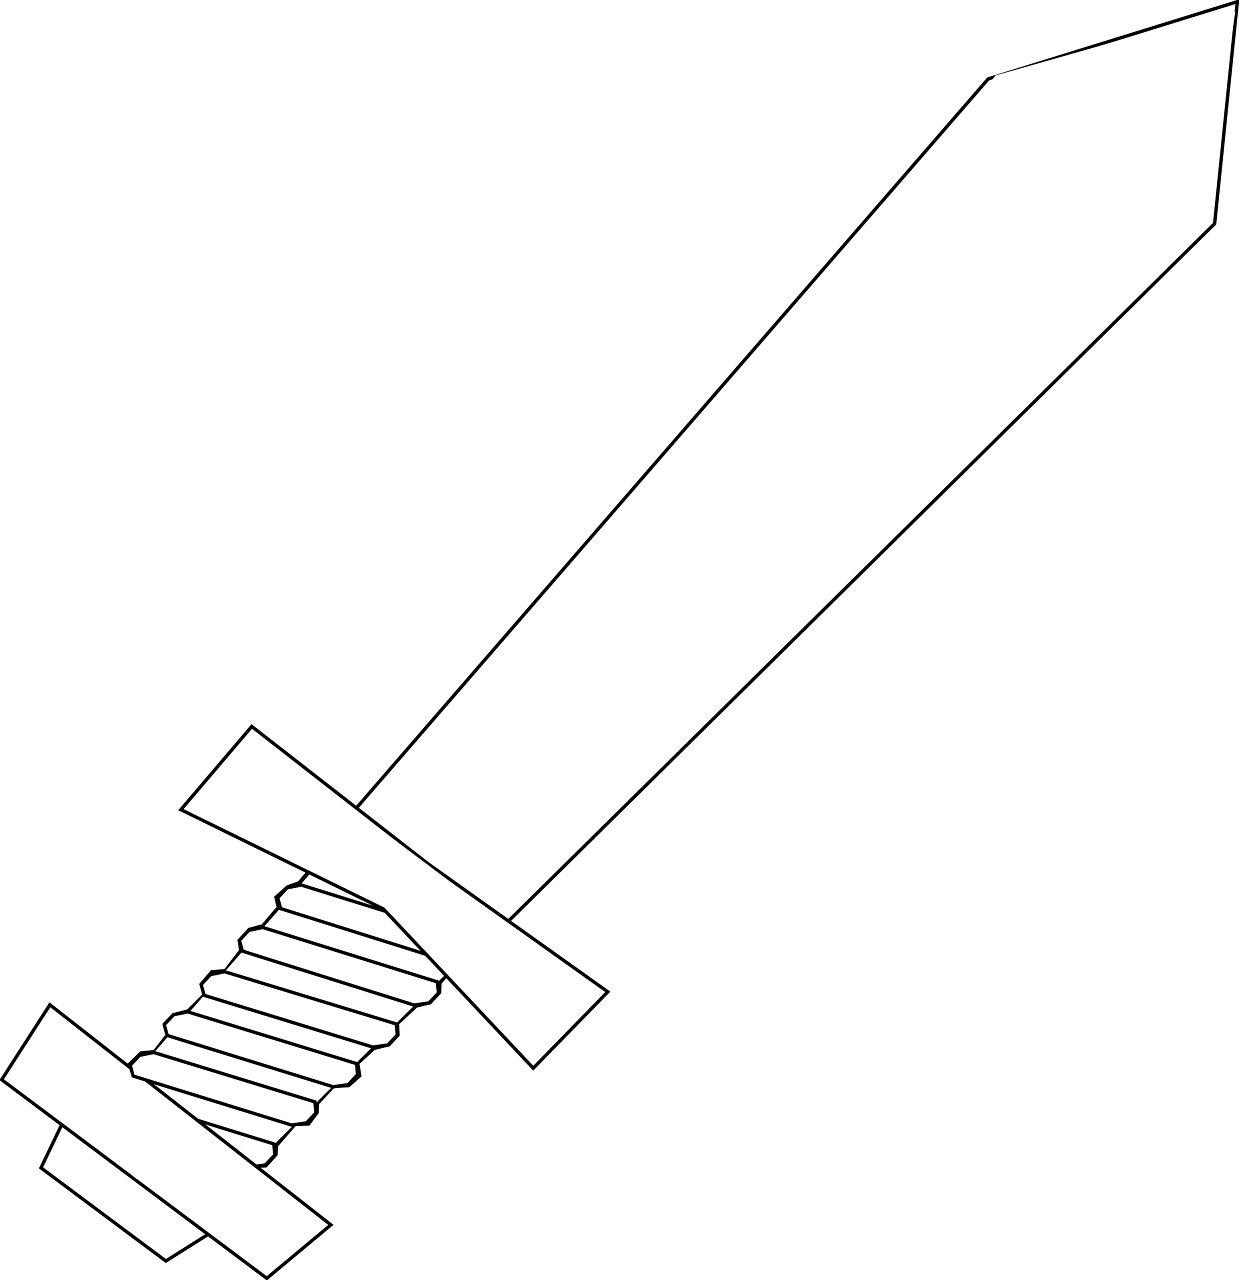knife: (3, 0, 1239, 1275)
